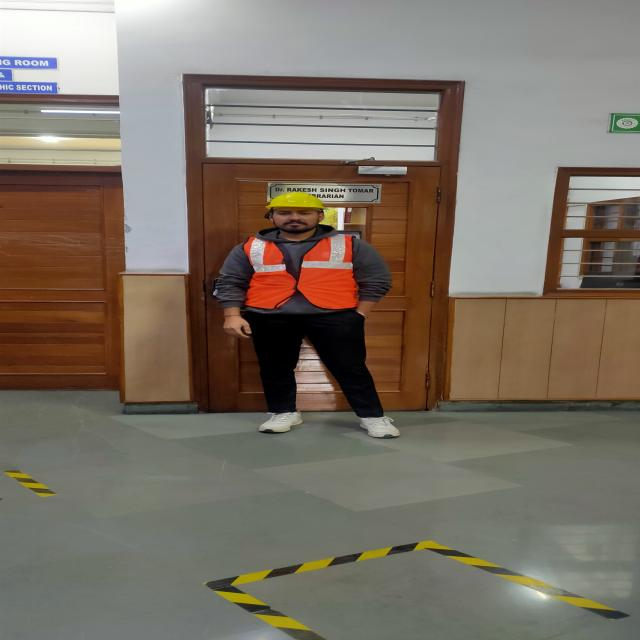safe: (219, 191, 392, 440)
